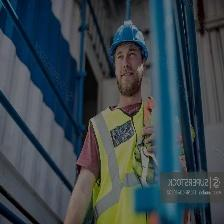Person: (74, 11, 158, 224)
helmet: (112, 19, 146, 48)
vest: (88, 110, 158, 224)
